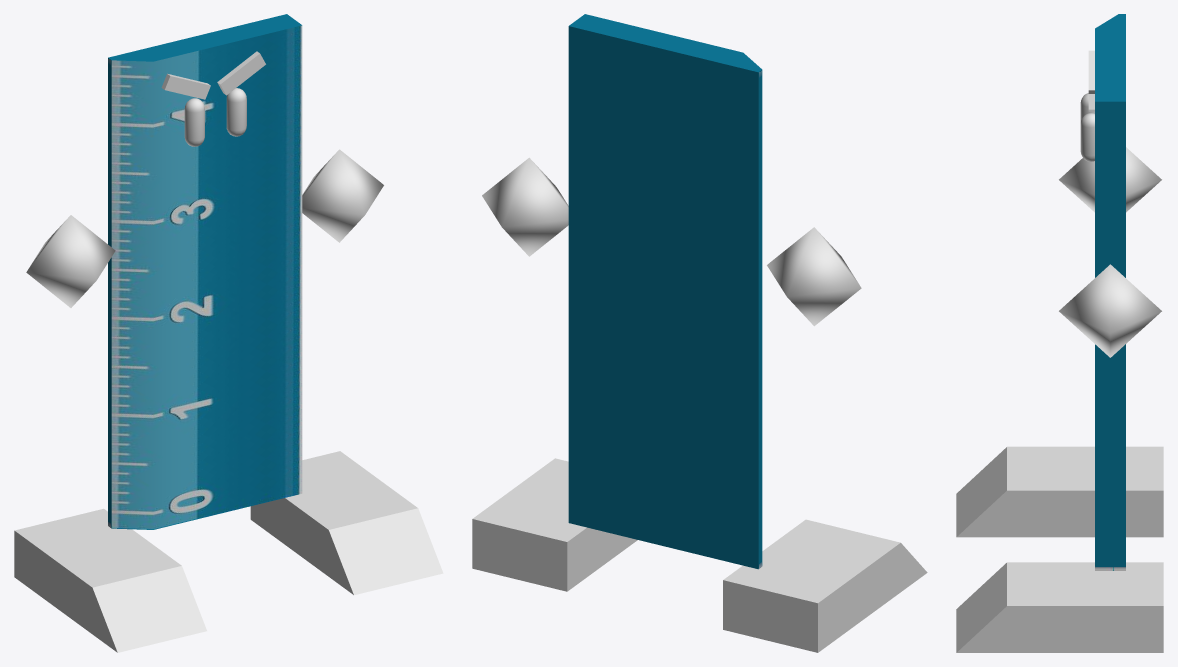
The model's file is 間尺人.fbx.
The picture shows the model from 3 angles, left to right: view 1: azimuth 30°, elevation 25°; view 2: azimuth 150°, elevation 25°; view 3: azimuth 270°, elevation 25°; orthographic projection. The views are drawn at different scales.
Visible parts, largest first — view 1: Box001, 右腳, 左腳, 右手, 左手, 右眼, 左眼, 左眉, 右眉; view 2: Box001, 右腳, 左腳, 右手, 左手; view 3: 左腳, 右腳, Box001, 左手, 右手, 左眼.
Part boxes in pixels (x1,y1,x2,y2): Box001: (108,14,302,529); 右腳: (14,508,206,652); 左腳: (250,451,443,595); 右手: (26,215,115,307); 左手: (302,149,383,242); 右眼: (184,98,204,146); 左眼: (226,88,246,136); 左眉: (217,51,265,95); 右眉: (161,73,210,99); Box001: (568,14,762,569); 右腳: (723,519,927,652); 左腳: (472,458,637,591); 右手: (767,227,861,326); 左手: (482,157,568,256); 左腳: (956,562,1163,652); 右腳: (956,446,1163,537); Box001: (1095,14,1125,570); 左手: (1059,264,1161,357); 右手: (1059,147,1161,212); 左眼: (1080,113,1094,161).
Size of the model in its own units: 40 by 55 by 20.
Materials: 1 (1 with a texture image).
